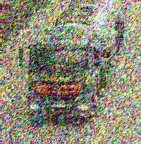truck: (28, 0, 133, 118)
